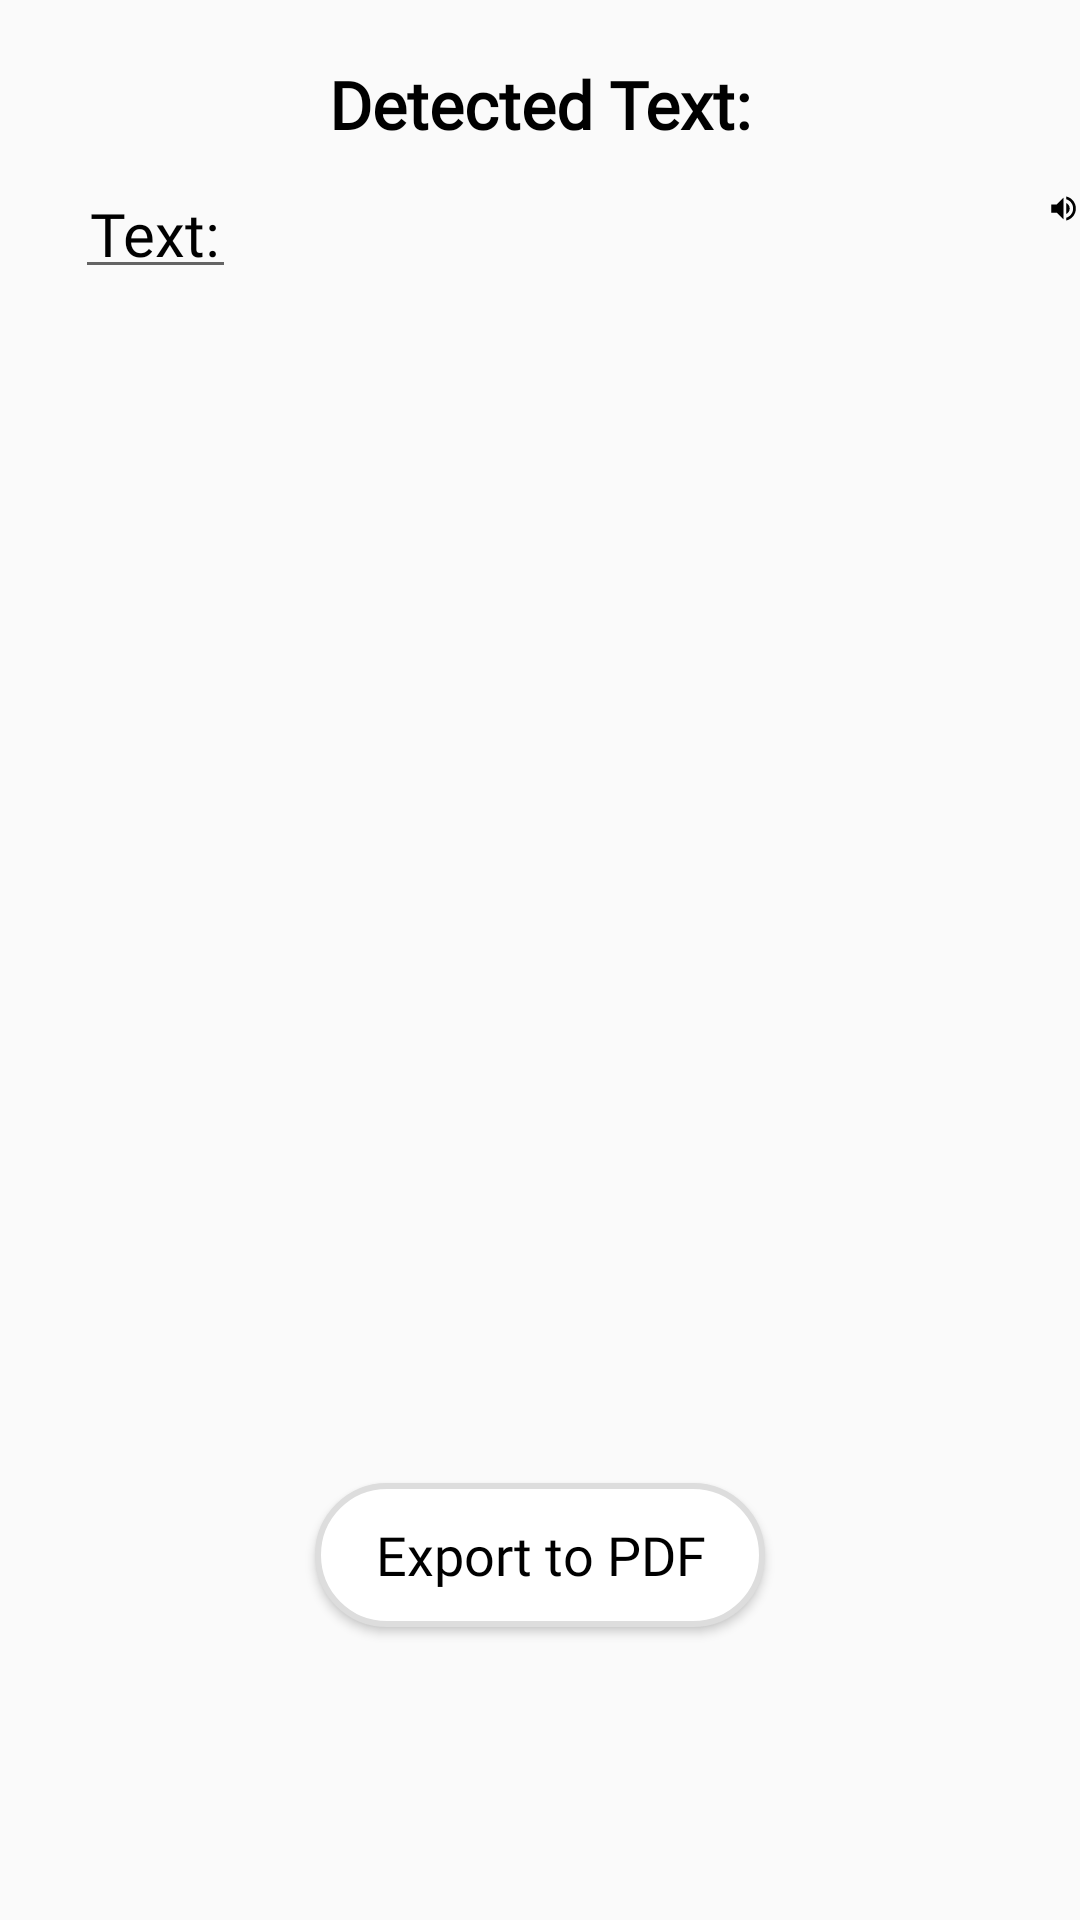

Named icons in this screenshot (1080*1920) and their bounding boxes, [left=x1, top=y1, right=x2, bottom=y2]:
volume up: [left=1051, top=196, right=1076, bottom=221]
